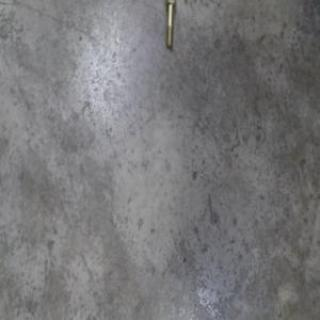Bolttrack_idkeyframe: (162, 0, 176, 50)
